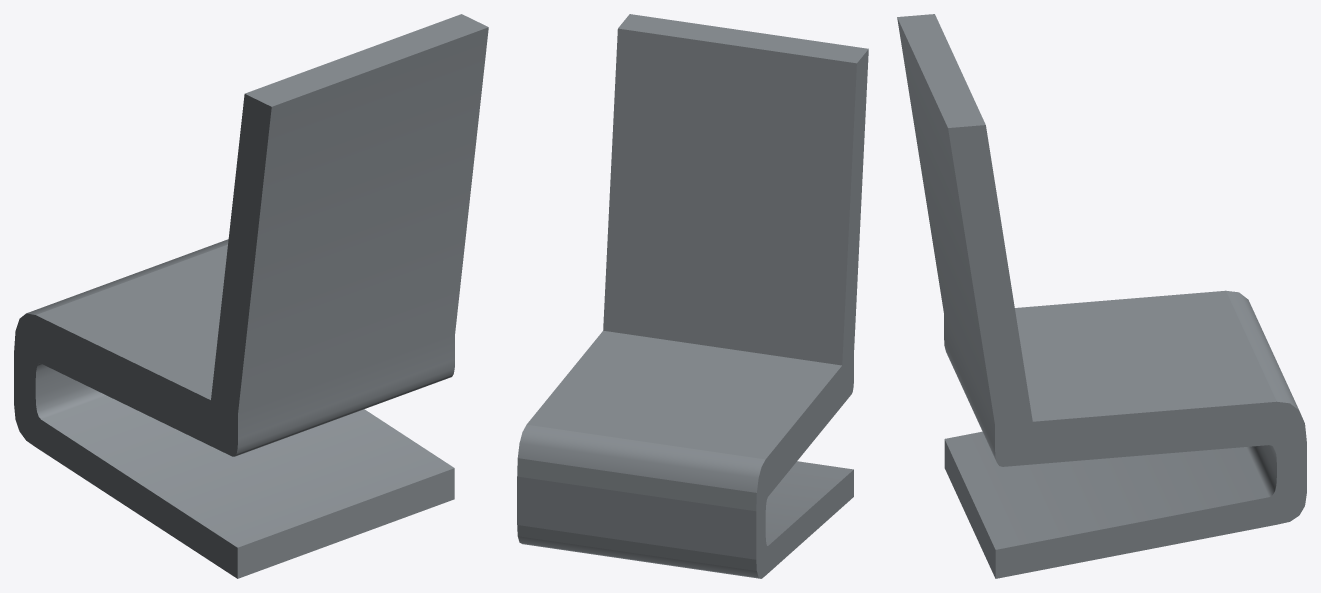
Rendered from Floating Chair Bedroom.fbx.
The picture shows the model from 3 angles, left to right: view 1: azimuth 30°, elevation 25°; view 2: azimuth 150°, elevation 25°; view 3: azimuth 270°, elevation 25°; orthographic projection. The views are drawn at different scales.
Visible parts, largest first — view 1: Box031; view 2: Box031; view 3: Box031.
Part boxes in pixels (x1,y1,x2,y2): Box031: (14,14,488,578); Box031: (517,14,868,578); Box031: (897,14,1306,578).
Size of the model in its own units: 0.3959 by 0.5977 by 0.4881.
Materials: 1 (1 with a texture image).
